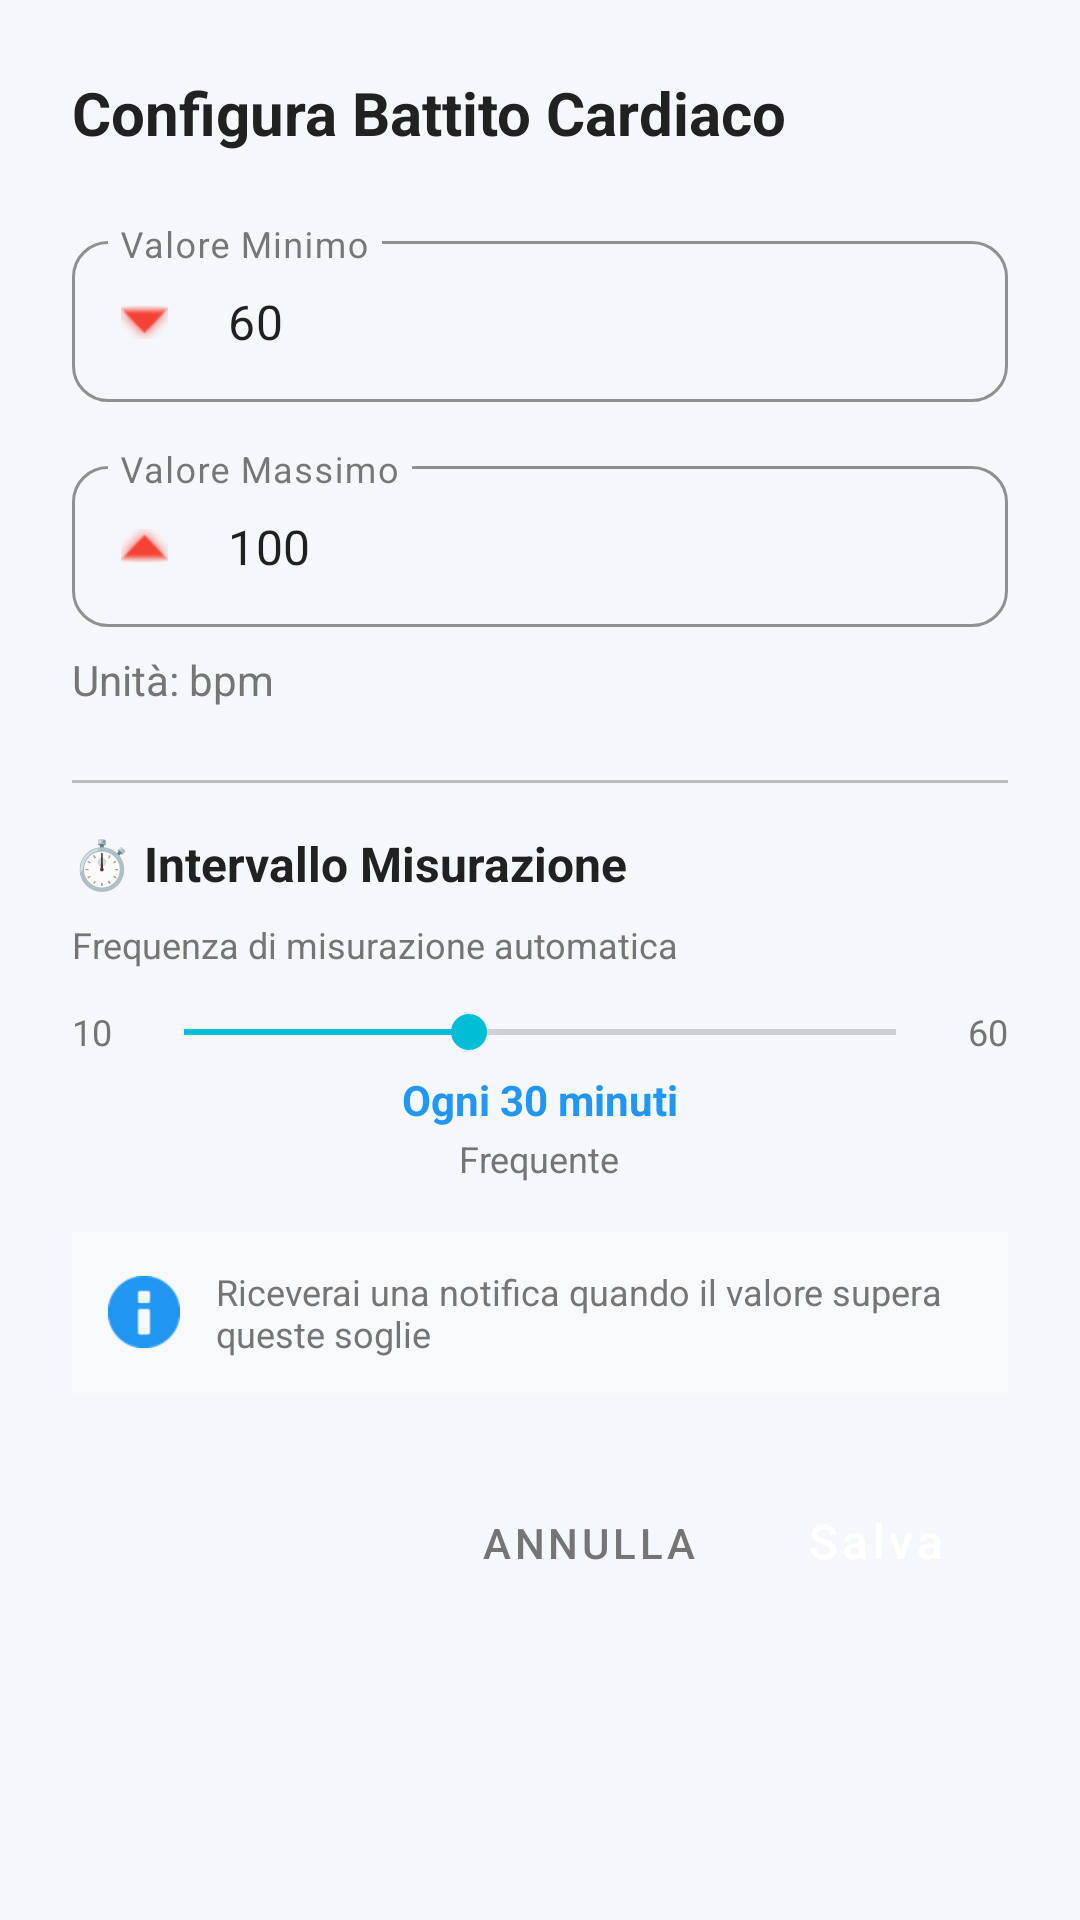

Screen size 1080x1920. Icon name, then its center in pixels as [x,y]:
info: [144,1312]
